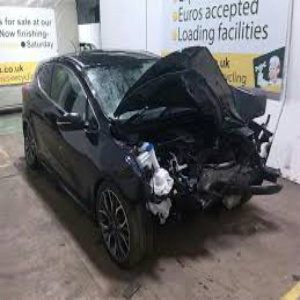bonnet: (131, 64, 251, 134)
bumper: (174, 171, 276, 235)
